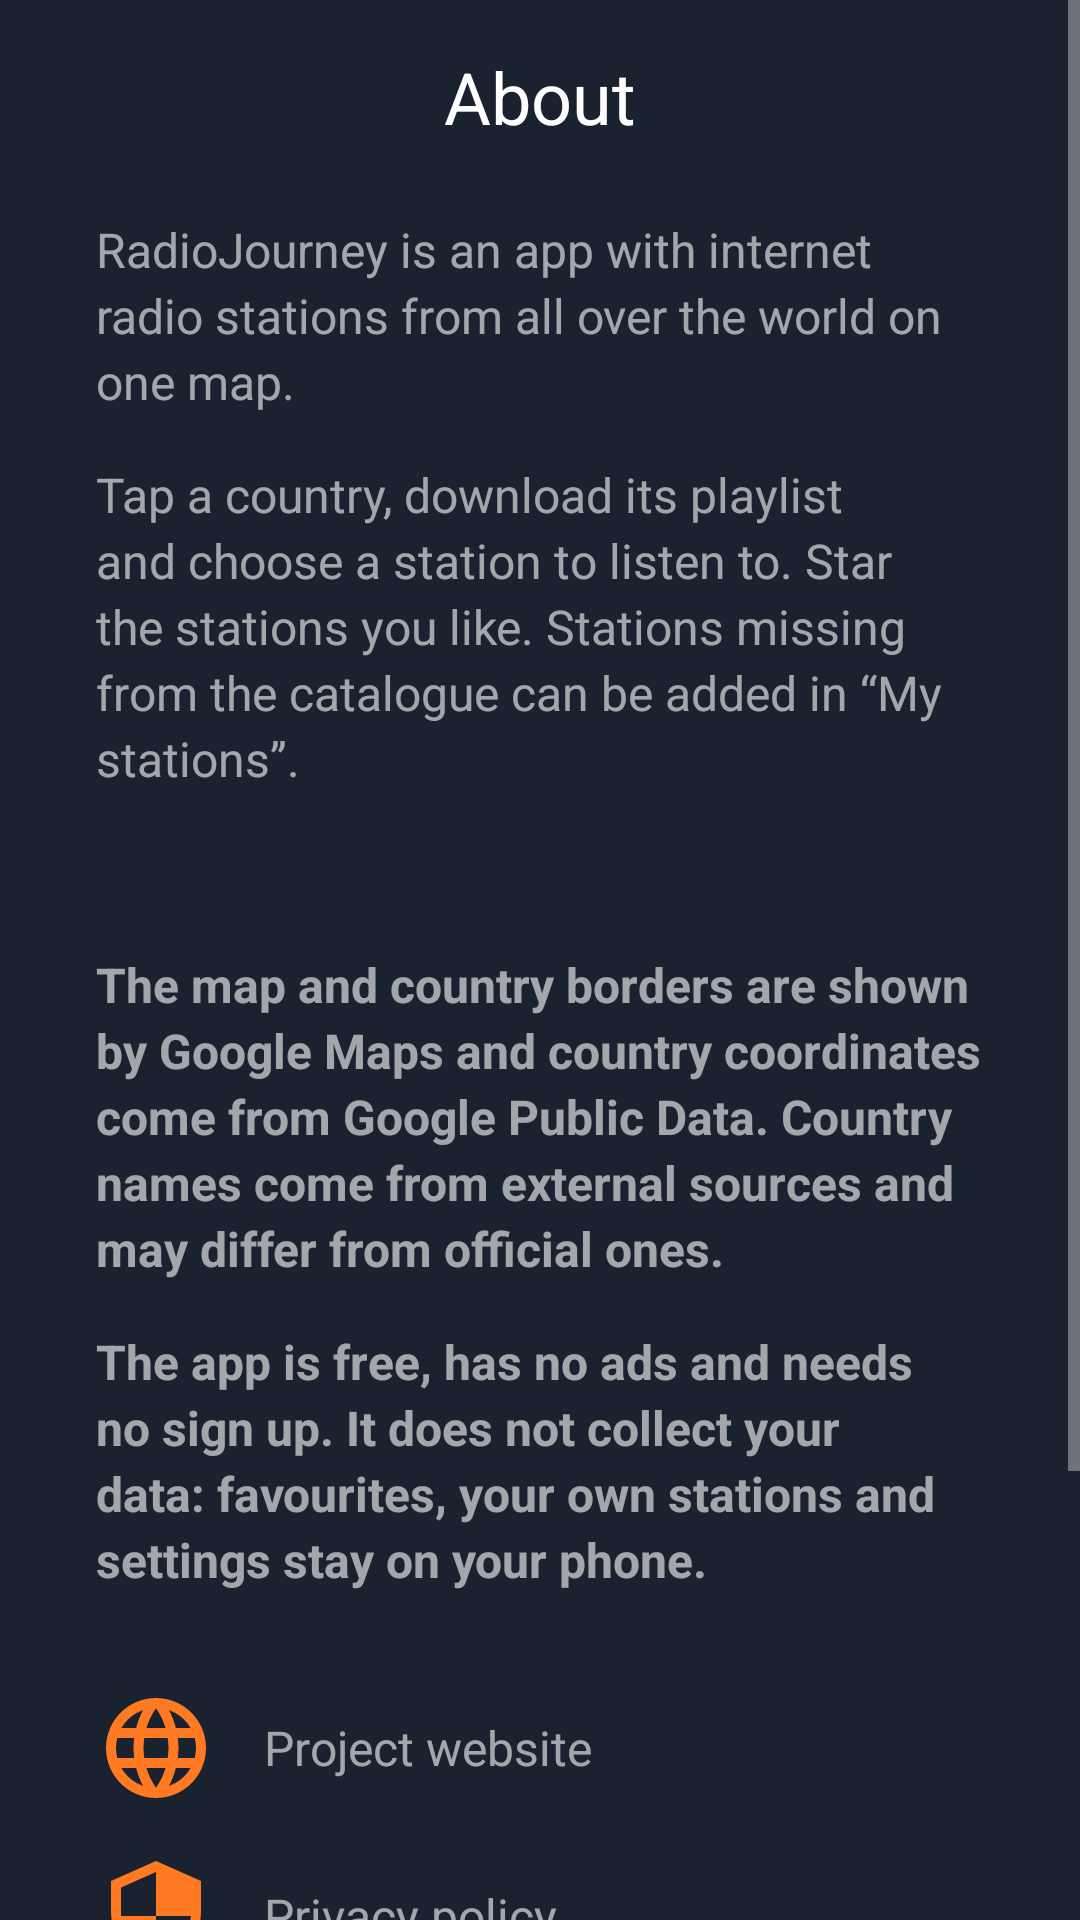

Screen size 1080×1920. Icon name, then its center in pixels as [x,y]:
public: [156,1748]
